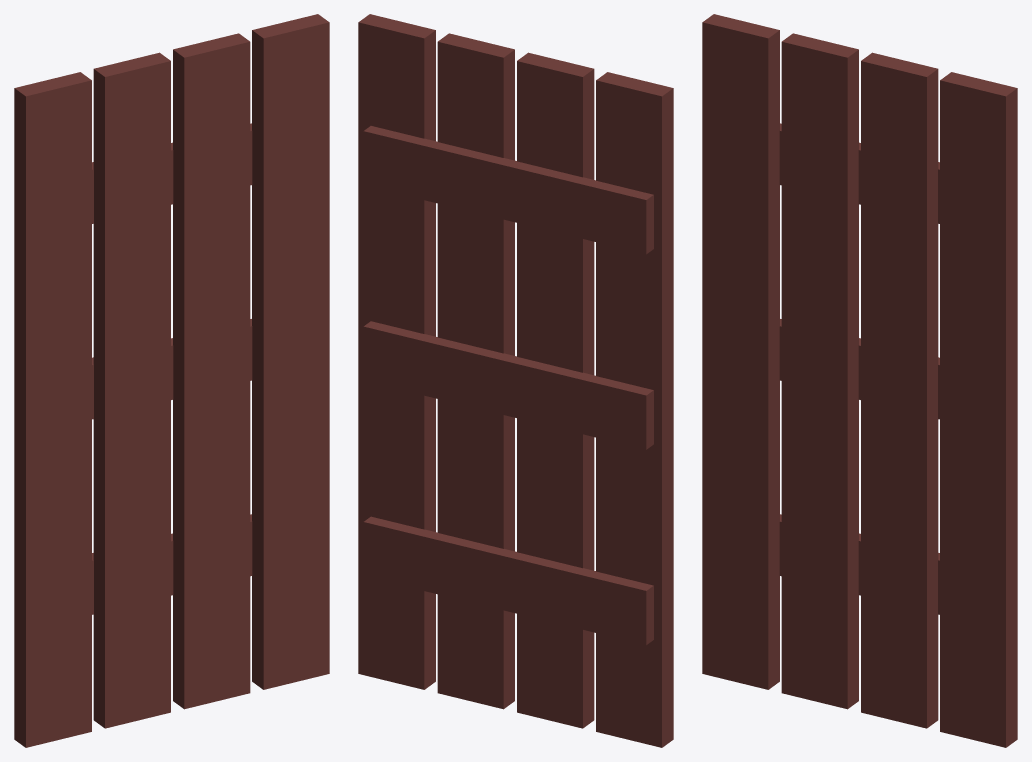
The model's file is SimónLiker-4D-Puerta.fbx.
3 renders of one model, left to right at view 1: azimuth 30°, elevation 25°; view 2: azimuth 150°, elevation 25°; view 3: azimuth 330°, elevation 25°, orthographic.
Visible parts, largest first — view 1: Cube; view 2: Cube; view 3: Cube.
Boxes of the visible parts, x1=… form: Cube: x1=14, y1=14, x2=329, y2=747; Cube: x1=358, y1=14, x2=673, y2=747; Cube: x1=702, y1=14, x2=1017, y2=747.
Size of the model in its own units: 129 by 264 by 13.78.
1 material, 1 textured.
